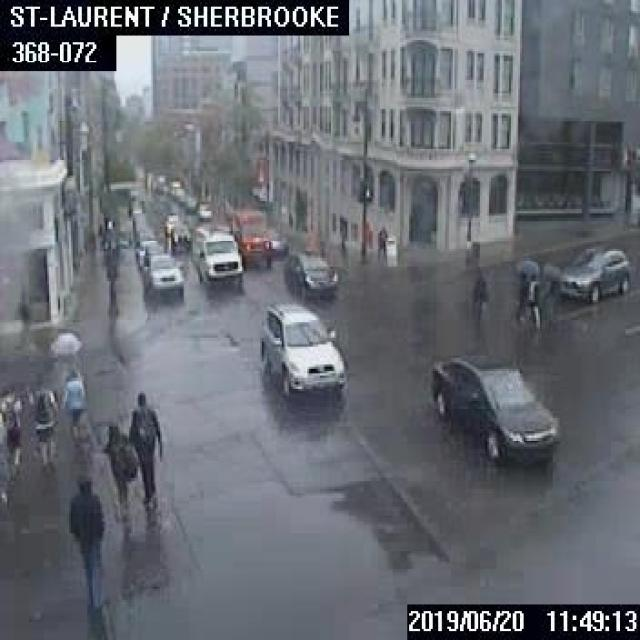pedestrian: (67, 476, 104, 611), (91, 408, 137, 513), (127, 391, 162, 510), (29, 371, 57, 473), (59, 363, 86, 447), (0, 385, 20, 471), (48, 332, 83, 373), (514, 258, 536, 319), (524, 273, 540, 327), (473, 273, 486, 318), (376, 224, 386, 258)
vehicle: (429, 347, 558, 460), (259, 302, 344, 394), (554, 242, 628, 302), (191, 222, 242, 284), (282, 245, 337, 298), (230, 209, 270, 265), (145, 252, 183, 296), (141, 240, 165, 268), (266, 227, 289, 254), (134, 237, 157, 264), (169, 222, 191, 249), (164, 212, 182, 233), (196, 201, 212, 218)
